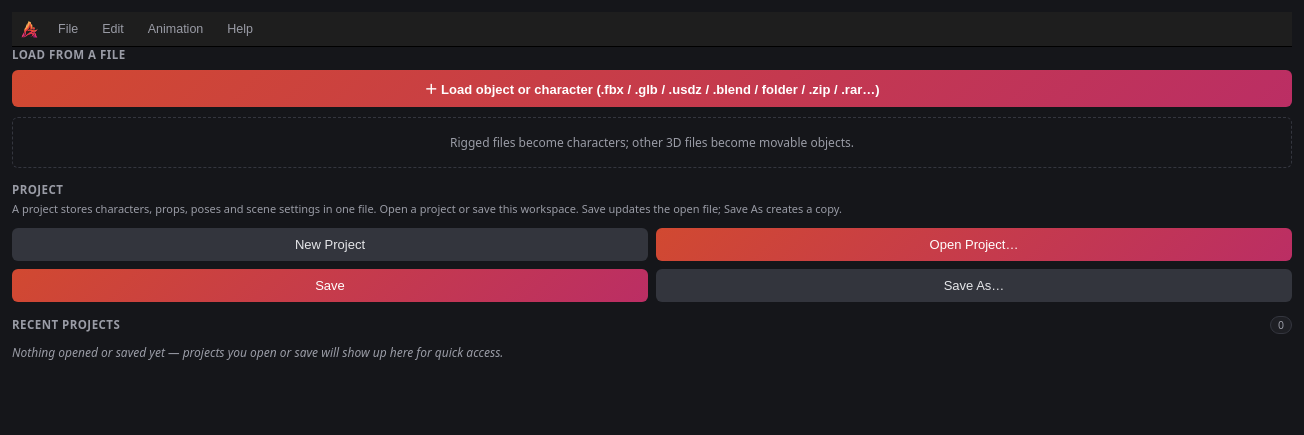
Test: title-bar project saves › updates the Project panel after title-bar Save As
Click the button "File" at [68, 29], box [46,12,90,46]
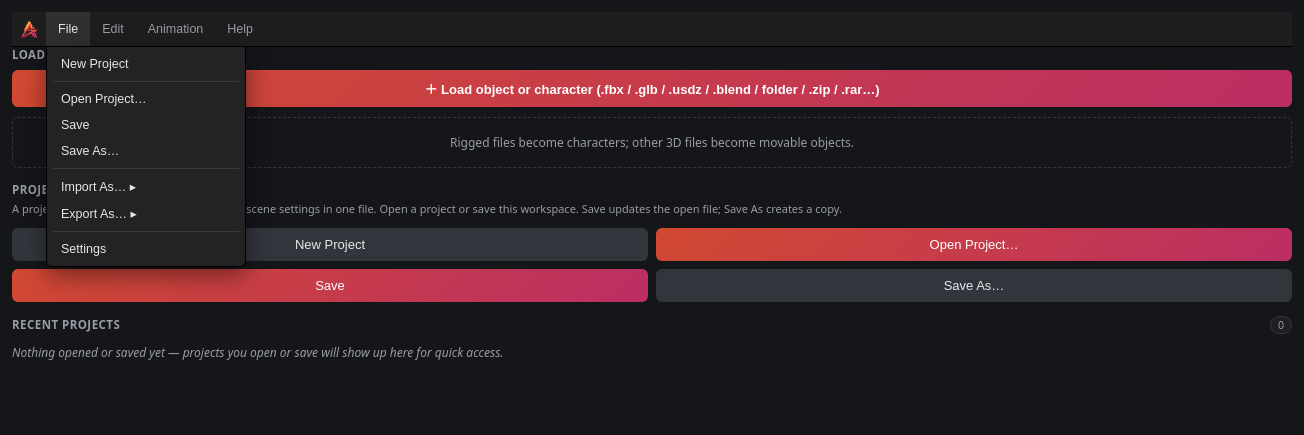
Click the menu item "Save As…" at [146, 151], box [51,138,241,164]
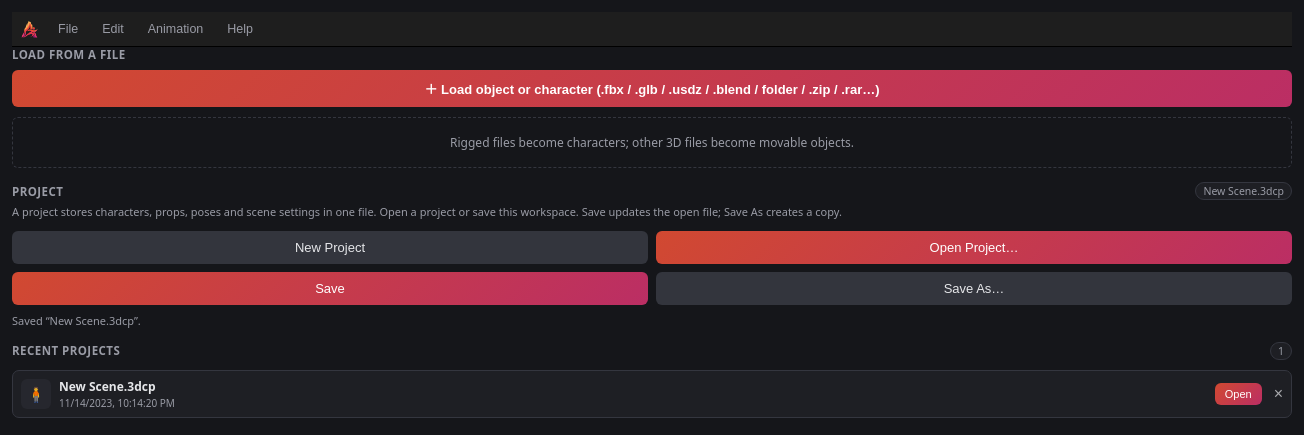
Expected: the text "Saved “New Scene.3dcp”." is shown, [12,312,141,328]
Expected: the 1st text "New Scene.3dcp" is shown, [1195,182,1292,200]
